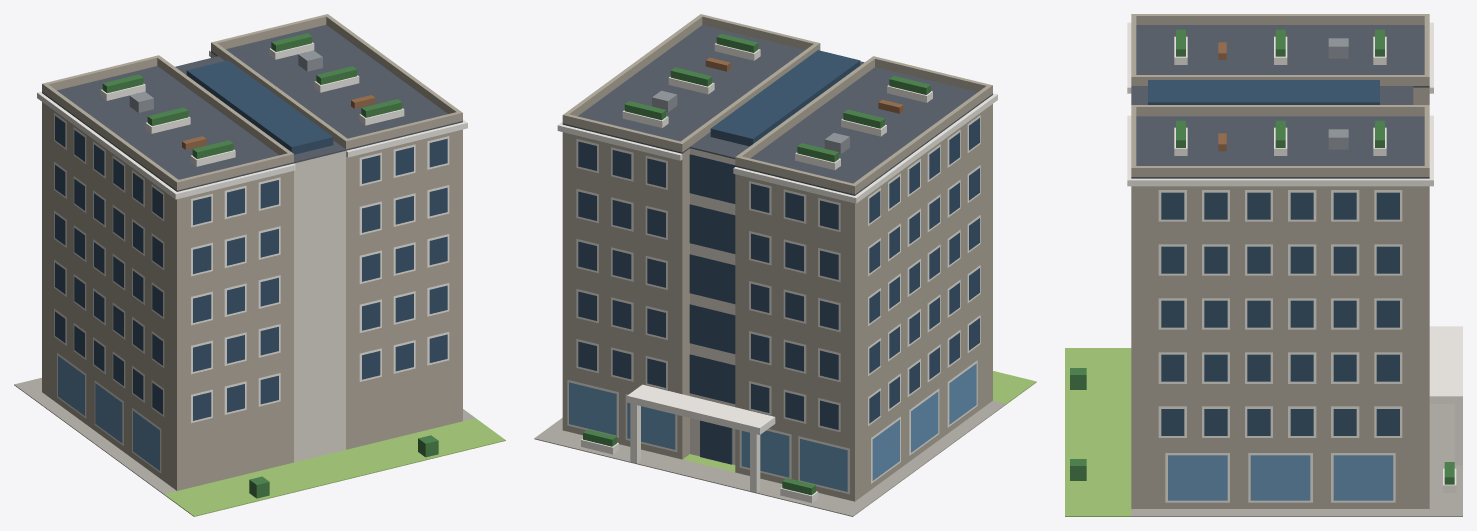
3 views of the same model, side by side, from view 1: azimuth 30°, elevation 25°; view 2: azimuth 150°, elevation 25°; view 3: azimuth 270°, elevation 25° (orthographic). The views are drawn at different scales.
Parts seen in each view (by area): view 1: wall (×2), roof (×3), atrium, parapet (×8), lawn, roof_light, storefront (×3), cornice (×3), paving; view 2: wall (×2), roof (×3), parapet (×8), storefront (×7), window_band (×5), paving (×2), roof_light, cornice (×3), atrium, canopy, column (×2), door (+1 smaller); view 3: wall, roof (×3), window_glass (×30), parapet (×4), lawn, storefront (×3), roof_light, paving (×2), cornice, canopy, storefront_frame (×3), column.
Part boxes in pixels (<box>): wall (×2): <box>42,52,462,490</box>; roof (×3): <box>42,25,462,191</box>; atrium: <box>294,151,345,462</box>; parapet (×8): <box>42,14,462,190</box>; lawn: <box>164,418,505,516</box>; roof_light: <box>186,60,333,154</box>; storefront (×3): <box>58,356,159,470</box>; cornice (×3): <box>39,93,467,199</box>; paving: <box>29,392,176,494</box>; wall (×2): <box>562,104,992,501</box>; roof (×3): <box>562,25,992,195</box>; parapet (×8): <box>562,14,992,194</box>; storefront (×7): <box>569,363,976,491</box>; window_band (×5): <box>689,154,735,403</box>; paving (×2): <box>534,401,1005,516</box>; roof_light: <box>710,50,860,146</box>; cornice (×3): <box>557,95,996,203</box>; atrium: <box>690,148,735,464</box>; canopy: <box>627,384,775,434</box>; column (×2): <box>630,403,760,492</box>; door: <box>700,420,732,464</box>; wall: <box>1131,186,1429,508</box>; roof (×3): <box>1131,25,1429,178</box>; window_glass (×30): <box>1161,192,1399,435</box>; parapet (×4): <box>1136,14,1424,176</box>; lawn: <box>1065,348,1131,516</box>; storefront (×3): <box>1168,455,1393,500</box>; roof_light: <box>1148,80,1379,104</box>; paving (×2): <box>1131,404,1462,516</box>; cornice: <box>1131,178,1429,186</box>; canopy: <box>1429,326,1462,403</box>; storefront_frame (×3): <box>1165,453,1395,502</box>; column: <box>1454,404,1462,465</box>.
Size of the model in its own units: 24 by 23.16 by 24.
